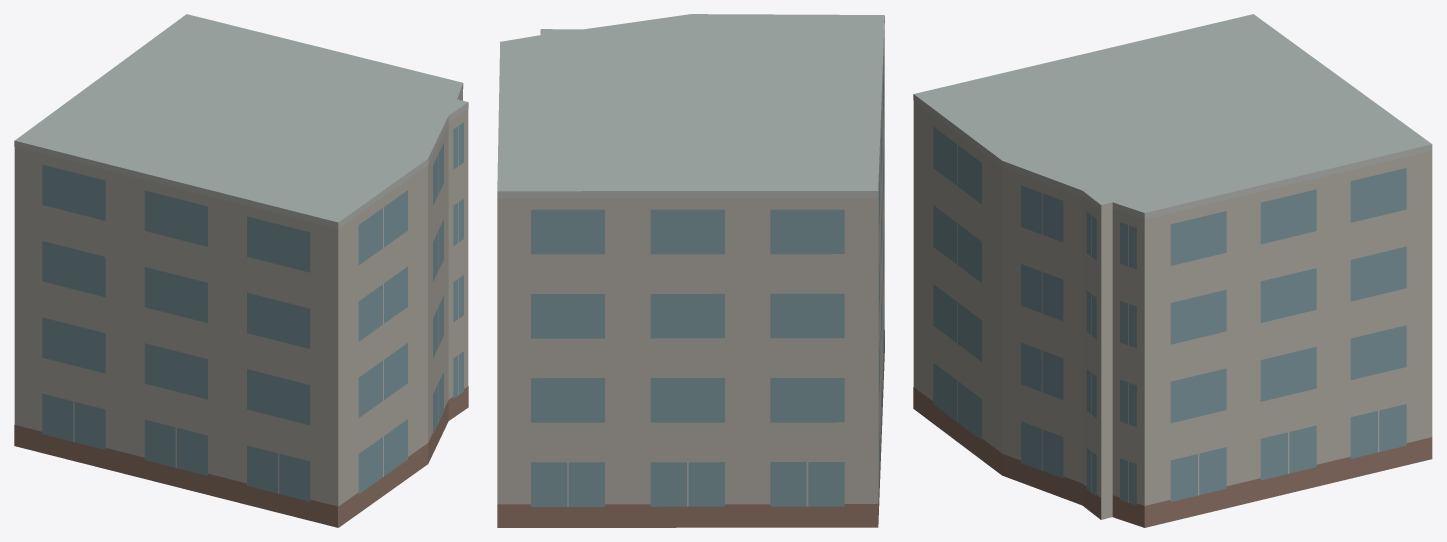
The model's file is survey-upis-32831303.glb.
3 renders of one model, left to right at view 1: azimuth 30°, elevation 25°; view 2: azimuth 150°, elevation 25°; view 3: azimuth 270°, elevation 25°, orthographic. The views are drawn at different scales.
Parts seen in each view (by area): view 1: survey-upis-32831303.tmp; view 2: survey-upis-32831303.tmp; view 3: survey-upis-32831303.tmp.
Part boxes in pixels (left/top/right/bottom): survey-upis-32831303.tmp: left=14, top=14, right=468, bottom=527; survey-upis-32831303.tmp: left=497, top=14, right=884, bottom=527; survey-upis-32831303.tmp: left=913, top=14, right=1432, bottom=527.
Size of the model in its own units: 16.28 by 12 by 17.93.
